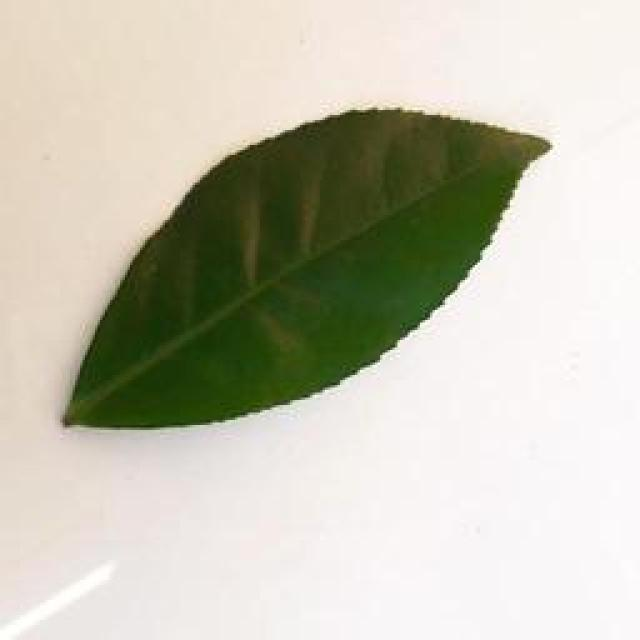Healthy: (37, 115, 560, 441)
